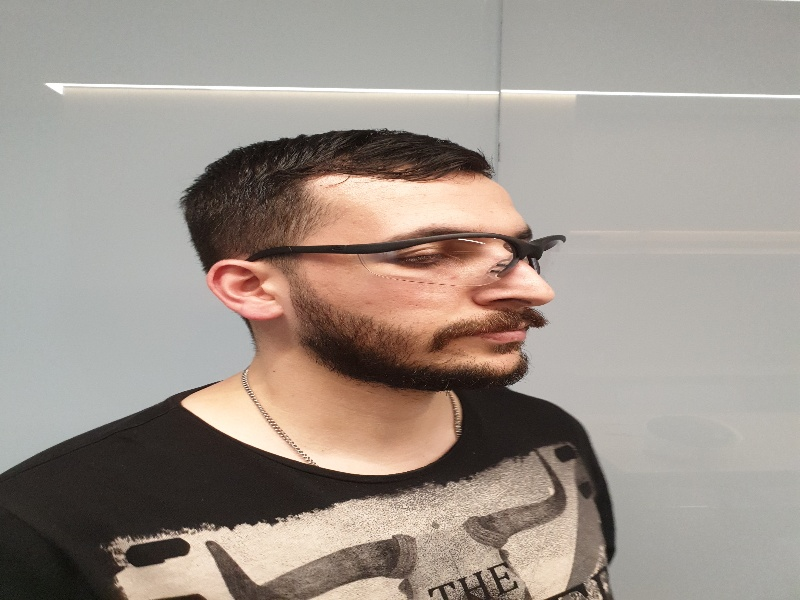Gozluk: (248, 235, 565, 279)
